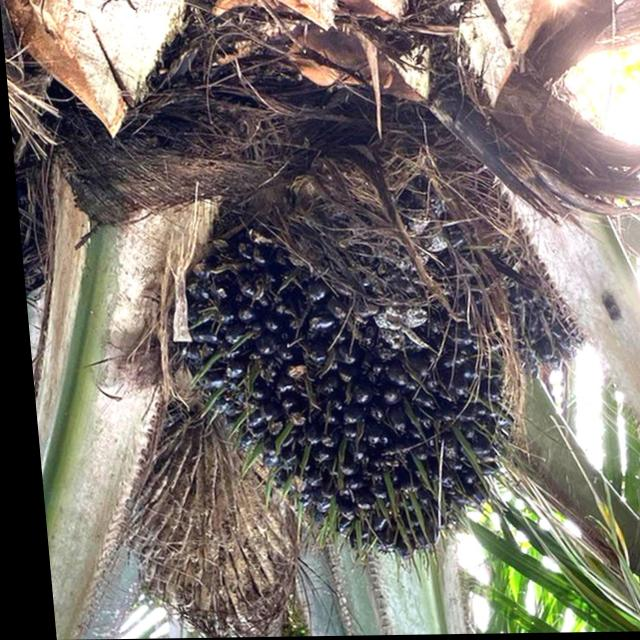unripe: (163, 211, 523, 566)
